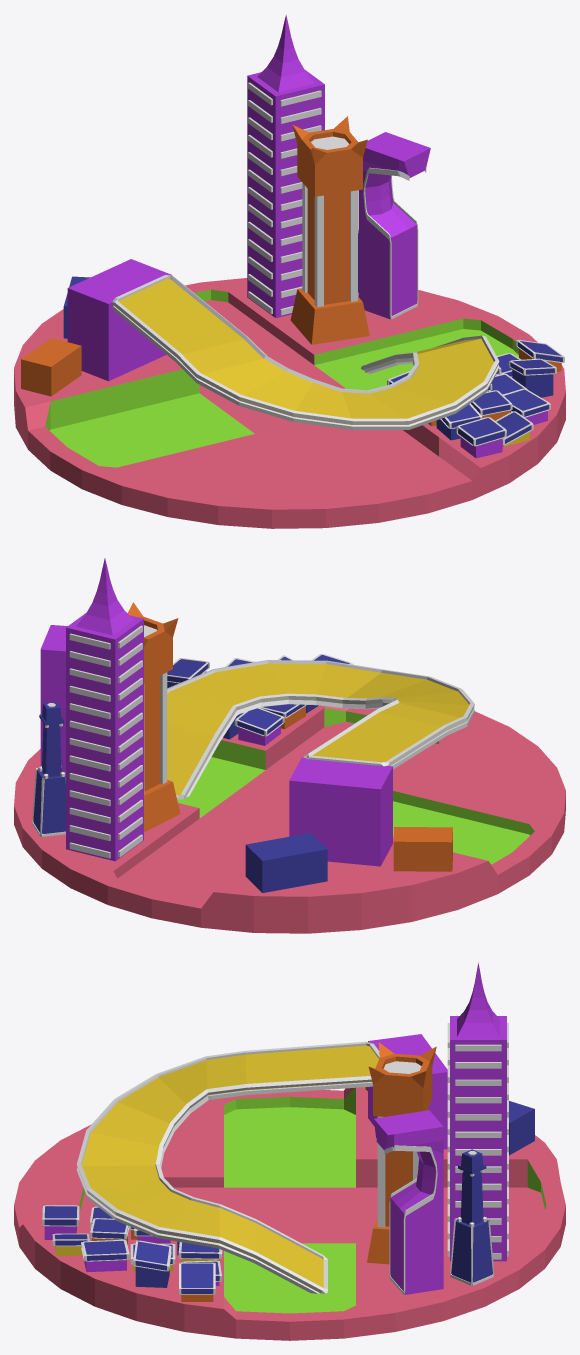
Rendered from city.fbx.
3 views of the same model, one above another, from view 1: azimuth 30°, elevation 25°; view 2: azimuth 150°, elevation 25°; view 3: azimuth 270°, elevation 25° (orthographic).
Parts seen in each view (by area): view 1: Ground, Stairway, Skyscraper 2, Skyscraper 3, Rail Lights, Mansion, Windows, Lid, Skyscraper 1, Base, Shed, Pillars (+5 smaller); view 2: Ground, Stairway, Skyscraper 2, Mansion, Windows, Rail Lights, Fountain, Shed, Skyscraper 3, Skyscraper 4, Skyscraper 1, Lid (+7 smaller); view 3: Ground, Stairway, Rail Lights, Skyscraper 3, Skyscraper 2, Windows, Lid, Skyscraper 4, Mansion, Antenna, Skyscraper 1, Lights.001 (+12 smaller).
Part boxes in pixels (x1=…): Ground: x1=14, y1=278, x2=565, y2=528; Stairway: x1=118, y1=278, x2=493, y2=424; Skyscraper 2: x1=247, y1=70, x2=324, y2=317; Skyscraper 3: x1=358, y1=132, x2=430, y2=319; Rail Lights: x1=112, y1=275, x2=499, y2=429; Mansion: x1=67, y1=259, x2=172, y2=381; Windows: x1=248, y1=82, x2=321, y2=315; Lid: x1=292, y1=116, x2=367, y2=196; Skyscraper 1: x1=307, y1=189, x2=349, y2=304; Base: x1=290, y1=288, x2=369, y2=344; Shed: x1=21, y1=338, x2=81, y2=396; Pillars: x1=302, y1=183, x2=357, y2=307; Ground: x1=14, y1=705, x2=565, y2=933; Stairway: x1=167, y1=663, x2=469, y2=795; Skyscraper 2: x1=66, y1=613, x2=143, y2=861; Mansion: x1=289, y1=757, x2=392, y2=866; Windows: x1=69, y1=625, x2=142, y2=858; Rail Lights: x1=167, y1=660, x2=474, y2=799; Fountain: x1=245, y1=833, x2=327, y2=892; Shed: x1=393, y1=827, x2=452, y2=871; Skyscraper 3: x1=40, y1=625, x2=67, y2=774; Skyscraper 4: x1=33, y1=702, x2=65, y2=836; Skyscraper 1: x1=144, y1=676, x2=160, y2=791; Lid: x1=127, y1=602, x2=178, y2=683; Ground: x1=14, y1=1087, x2=565, y2=1340; Stairway: x1=81, y1=1045, x2=378, y2=1287; Rail Lights: x1=76, y1=1041, x2=379, y2=1293; Skyscraper 3: x1=374, y1=1110, x2=443, y2=1294; Skyscraper 2: x1=450, y1=1016, x2=506, y2=1261; Windows: x1=447, y1=1023, x2=508, y2=1259; Lid: x1=368, y1=1042, x2=436, y2=1116; Skyscraper 4: x1=450, y1=1149, x2=492, y2=1285; Mansion: x1=368, y1=1034, x2=447, y2=1149; Antenna: x1=457, y1=962, x2=499, y2=1036; Skyscraper 1: x1=385, y1=1151, x2=412, y2=1226; Lights.001: x1=376, y1=1138, x2=437, y2=1294.
Bounding box in the file's own units: 1411 × 864 × 1411.
